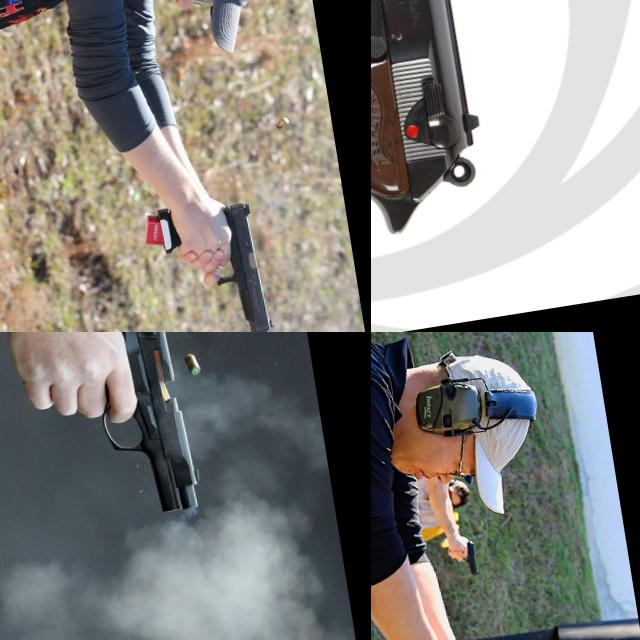handgun: (371, 0, 579, 286), (82, 332, 206, 524), (203, 197, 277, 332)
